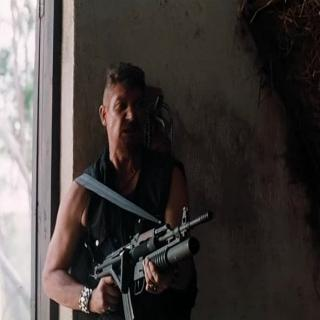gun: (80, 194, 220, 316)
